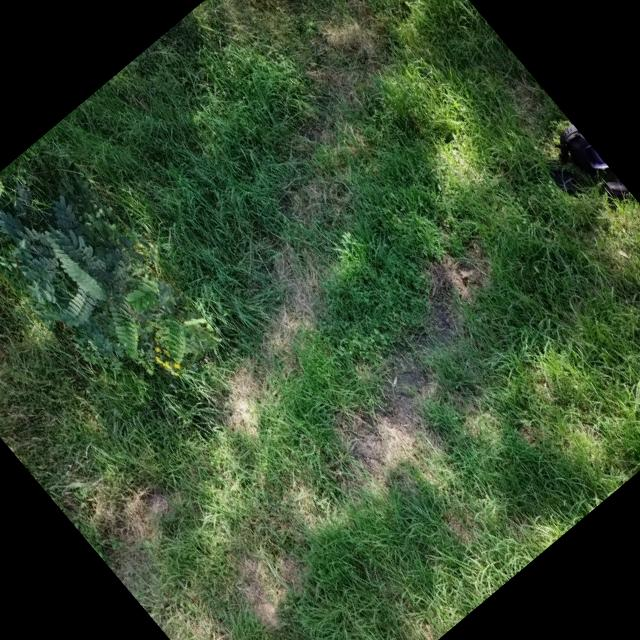Mysore-Thorn-Weed: (0, 138, 223, 419)
